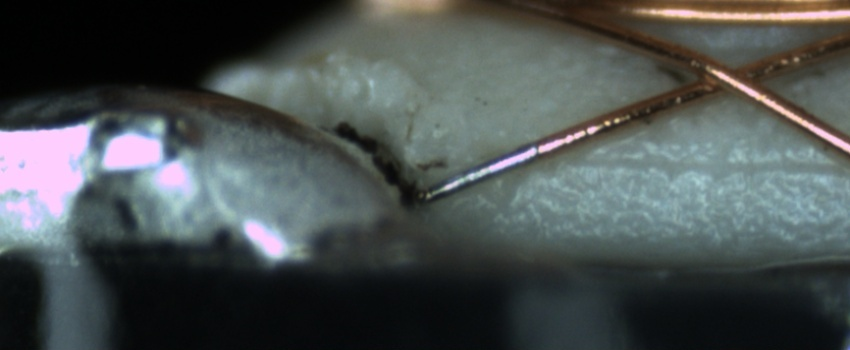CL: (660, 49, 795, 105)
DL: (546, 133, 850, 197)
TS: (417, 145, 539, 202)
